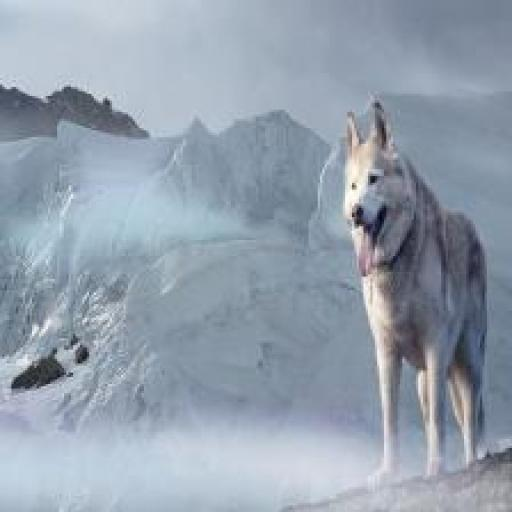wolf: (343, 100, 497, 495)
